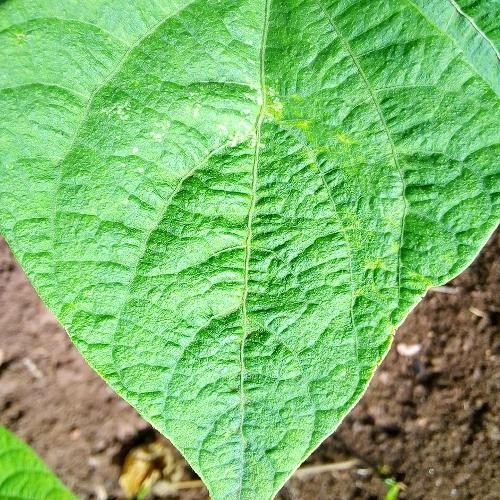embun tepung: (86, 78, 252, 176)
mozaik: (268, 87, 417, 296)
sehat: (114, 244, 233, 380)
